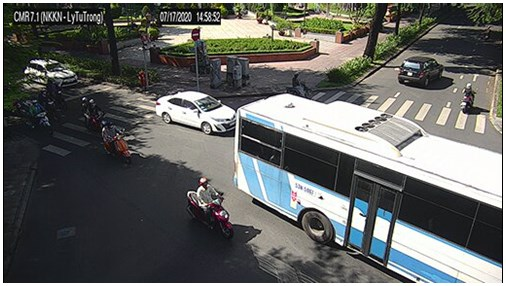xe_buyt: (234, 93, 503, 282)
xe_hoi: (155, 90, 238, 135), (23, 59, 79, 86), (397, 56, 444, 86)
xe_may: (186, 176, 235, 240), (100, 120, 132, 164), (81, 96, 108, 134), (29, 99, 52, 135), (44, 78, 67, 111), (286, 72, 313, 98), (36, 89, 56, 121), (460, 82, 477, 113)
